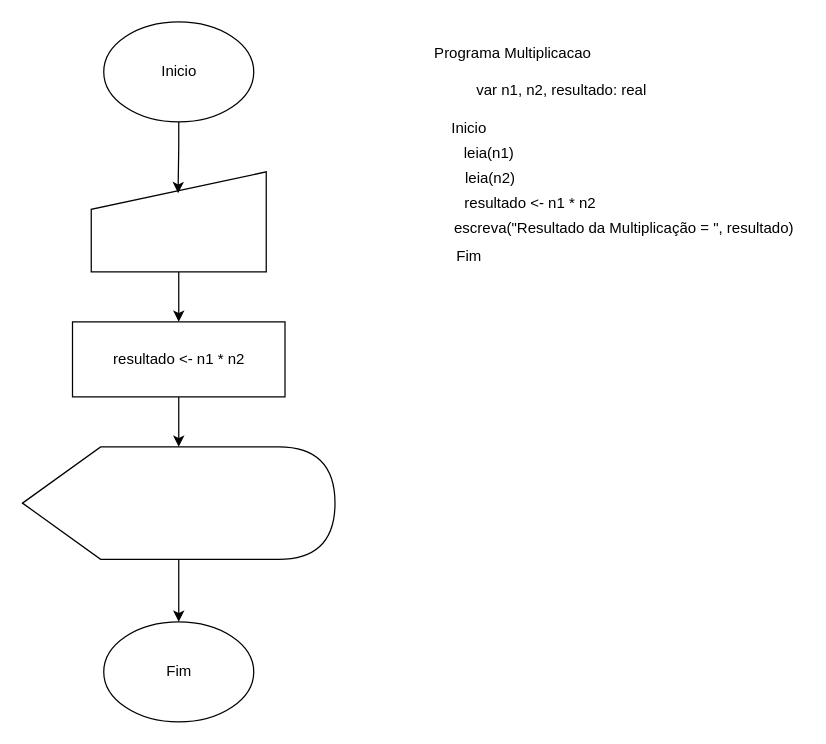
Some shapes in this 826 by 744 pixel diagram are drawn without their labels. Here are the shapes that lost their labels. From the top down, the centre of each, then its label:
[178,221]: n1, n2
[178,502]: "Resultado da Multiplicação = ", resultado
